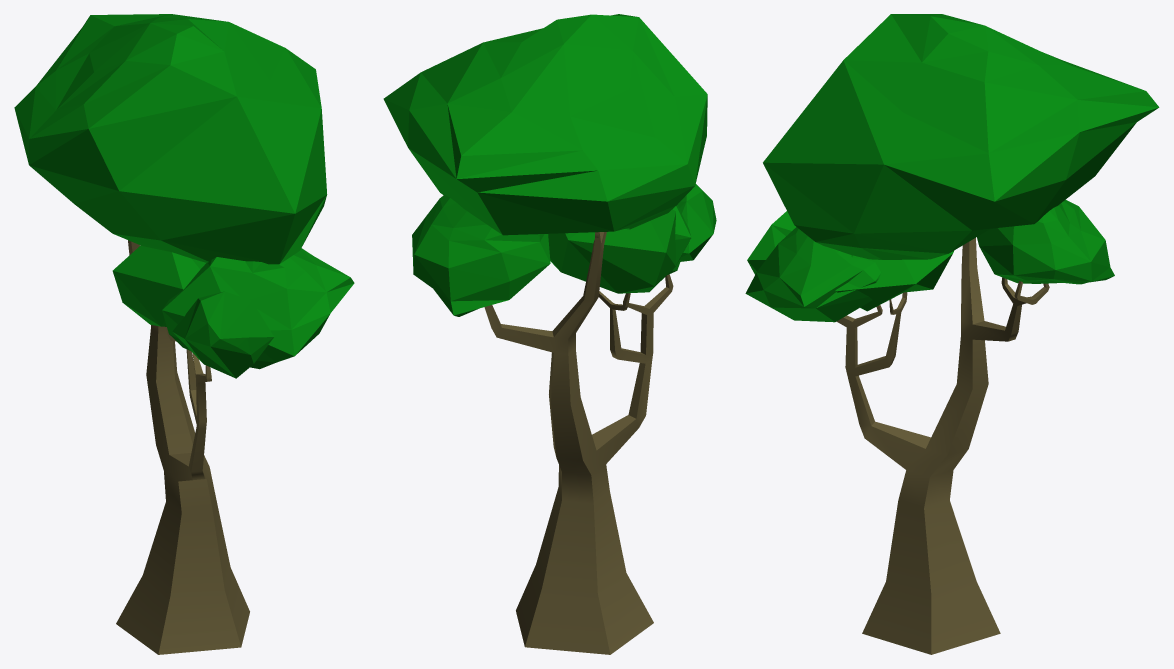
The model's file is SM_Tree.fbx.
3 views of the same model, side by side, from view 1: azimuth 30°, elevation 25°; view 2: azimuth 150°, elevation 25°; view 3: azimuth 270°, elevation 25° (orthographic). The views are drawn at different scales.
Visible parts, largest first — view 1: pCylinder1; view 2: pCylinder1; view 3: pCylinder1.
Boxes of the visible parts, bbox=[...] form: pCylinder1: bbox=[14, 14, 354, 654]; pCylinder1: bbox=[383, 14, 716, 654]; pCylinder1: bbox=[745, 14, 1159, 654].
Bounding box in the file's own units: 531 × 1025 × 639.
